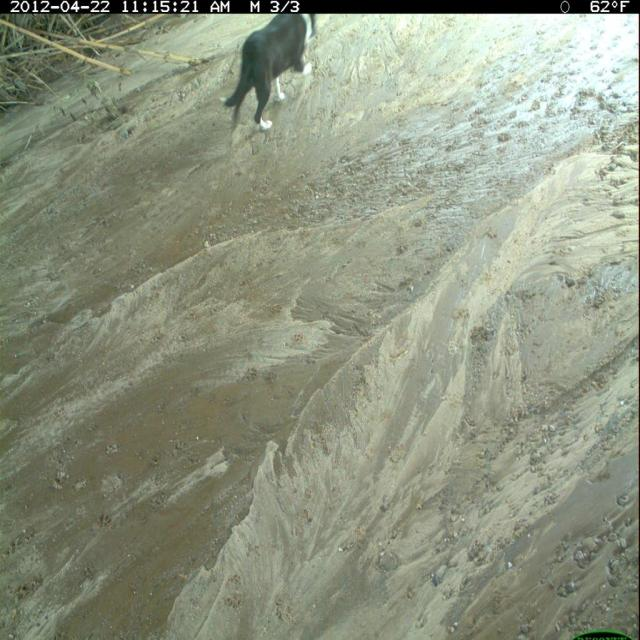dog: (217, 16, 321, 146)
